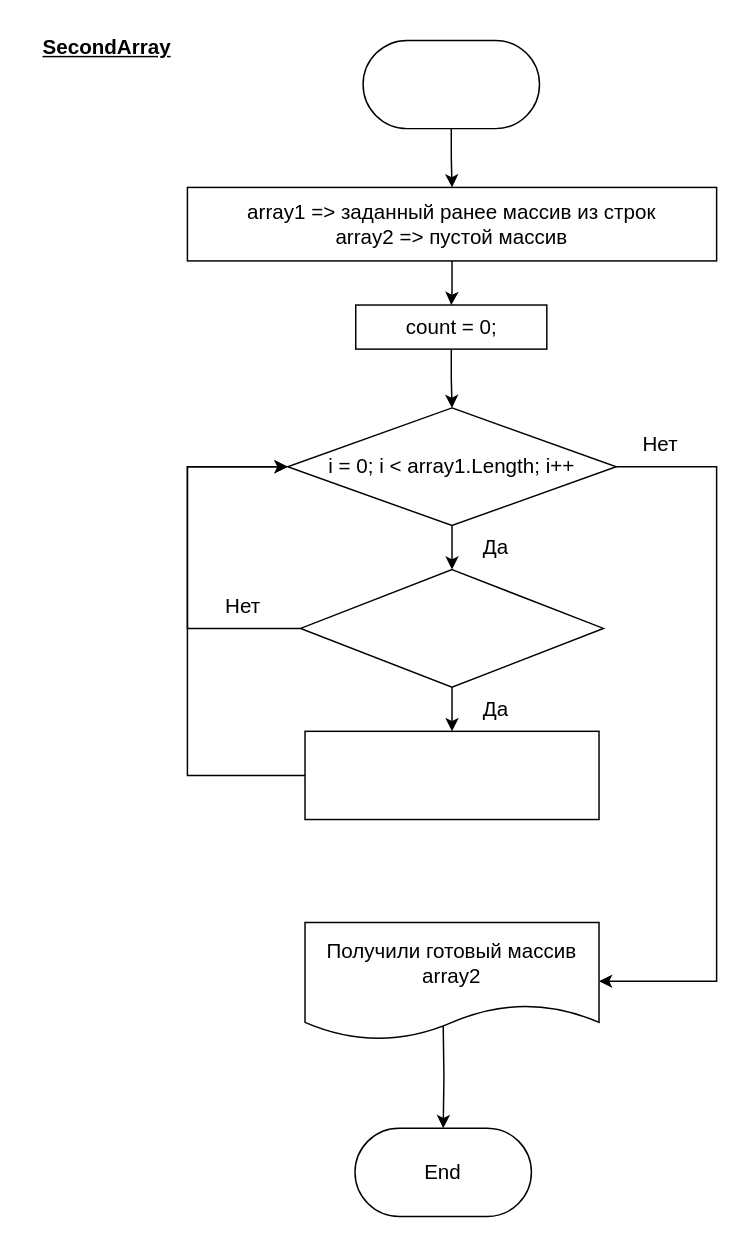
The diagram is 754 pixels wide and 1242 high, and some of its shapes have lost their labels. Each missing label, with the box of its shape:
array1[i].Length <= 3: (299, 568, 603, 687)
array2[count] = array1[i]; count++;: (304, 730, 599, 820)
Start: (362, 39, 539, 129)
